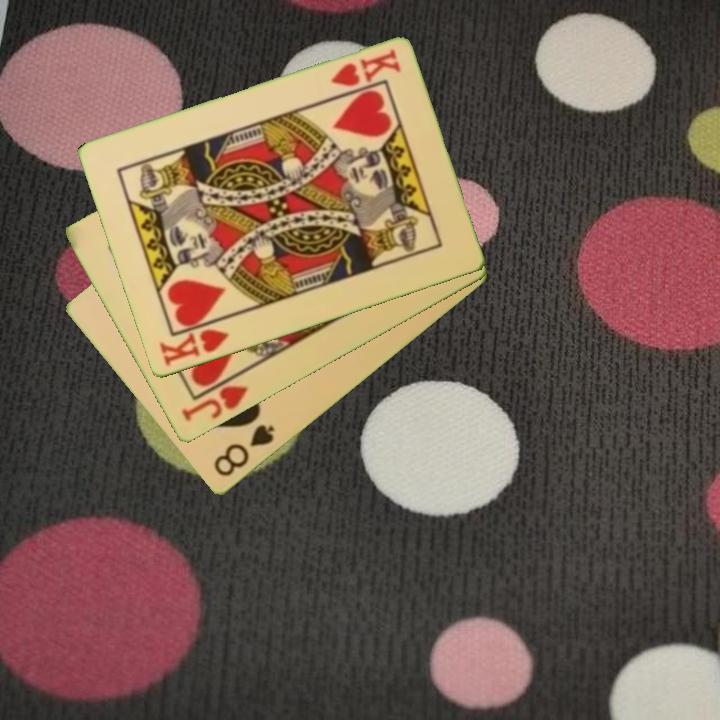8s: (210, 421, 278, 480)
Jh: (178, 369, 251, 425)
Kh: (155, 315, 233, 370), (327, 46, 404, 91)
